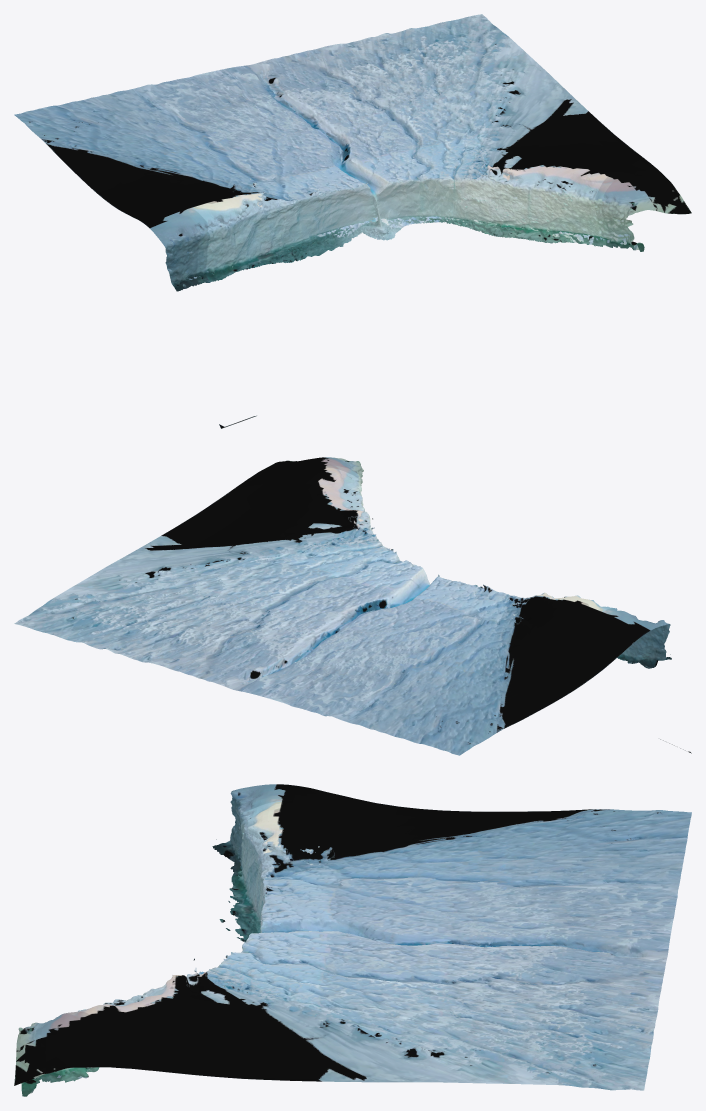
The model's file is sf-svalbard-ausfonna-glacier-wall-5e85ce.glb.
3 views of the same model, one above another, from view 1: azimuth 30°, elevation 25°; view 2: azimuth 150°, elevation 25°; view 3: azimuth 270°, elevation 25° (orthographic). The views are drawn at different scales.
Parts seen in each view (by area): view 1: Object_2; view 2: Object_2; view 3: Object_2.
Part boxes in pixels (x1,y1,x2,y2): Object_2: (14, 14, 691, 428); Object_2: (14, 457, 691, 755); Object_2: (14, 784, 691, 1096).
Size of the model in its own units: 75.45 by 26.65 by 71.91.
1 material, 1 textured.
